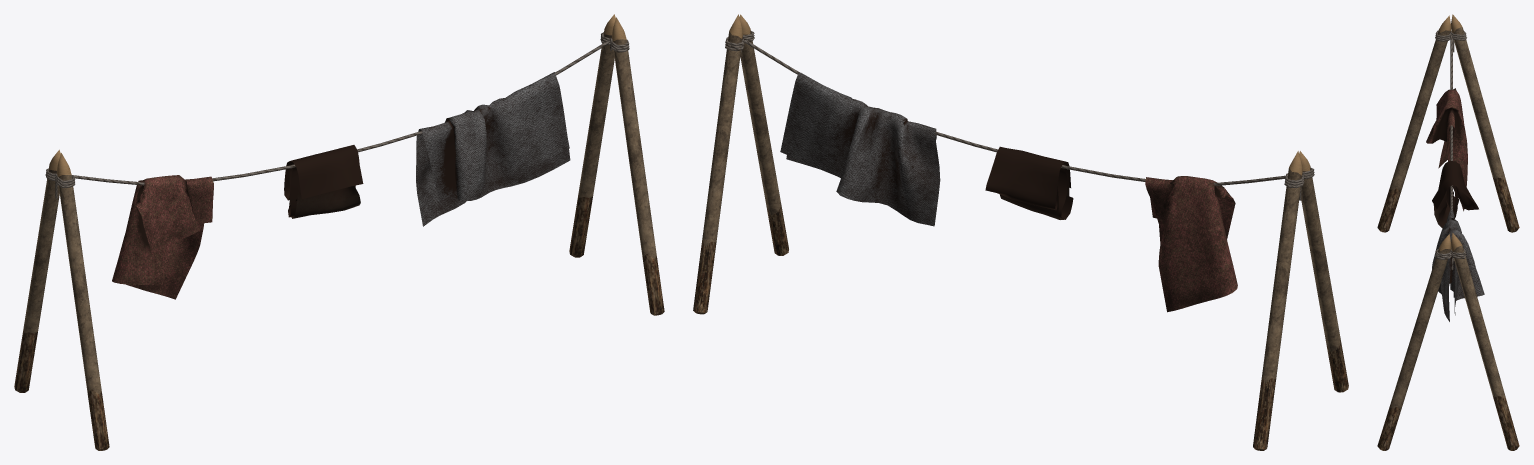
Rendered from Hanger.fbx.
3 views of the same model, side by side, from view 1: azimuth 30°, elevation 25°; view 2: azimuth 150°, elevation 25°; view 3: azimuth 270°, elevation 25° (orthographic). The views are drawn at different scales.
Visible parts, largest first — view 1: Cylinder.003; view 2: Cylinder.003; view 3: Cylinder.003.
Part boxes in pixels (box(x1,y1,x2,y2)): Cylinder.003: box(14, 14, 664, 450); Cylinder.003: box(693, 14, 1348, 450); Cylinder.003: box(1377, 14, 1519, 450).
Size of the model in its own units: 292 by 131 by 77.82.
